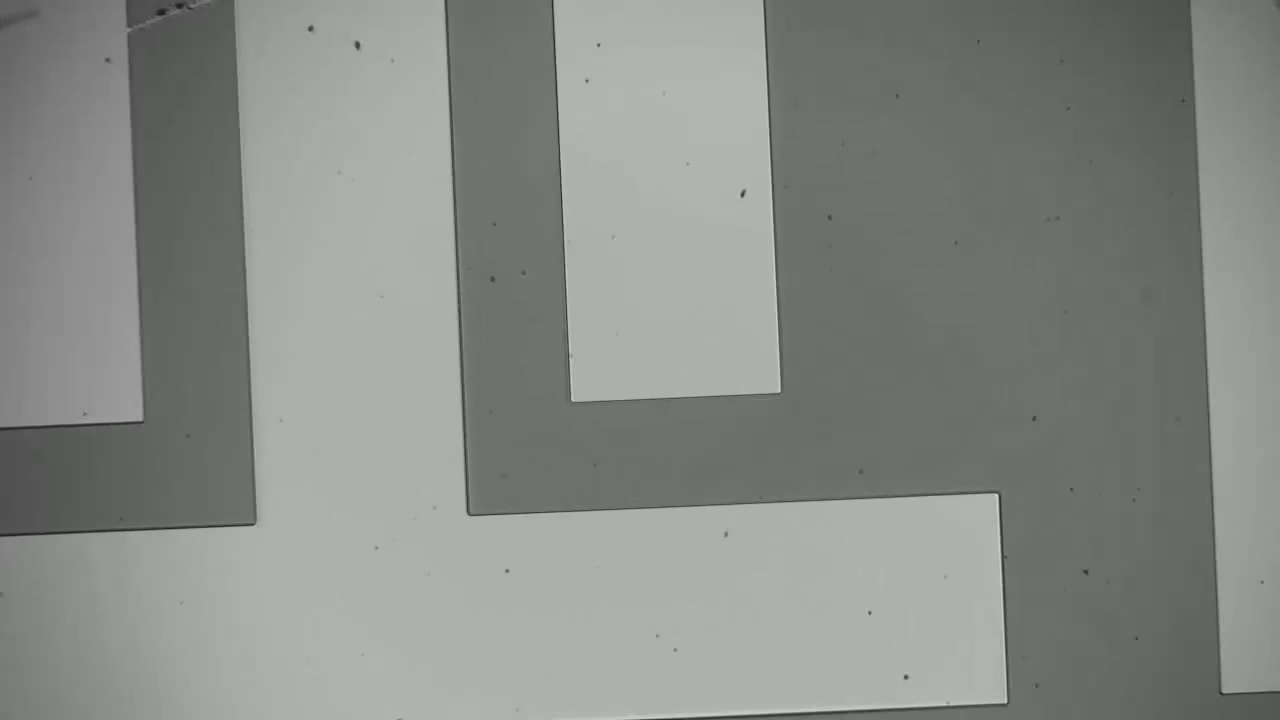scratch: (134, 1, 212, 33)
